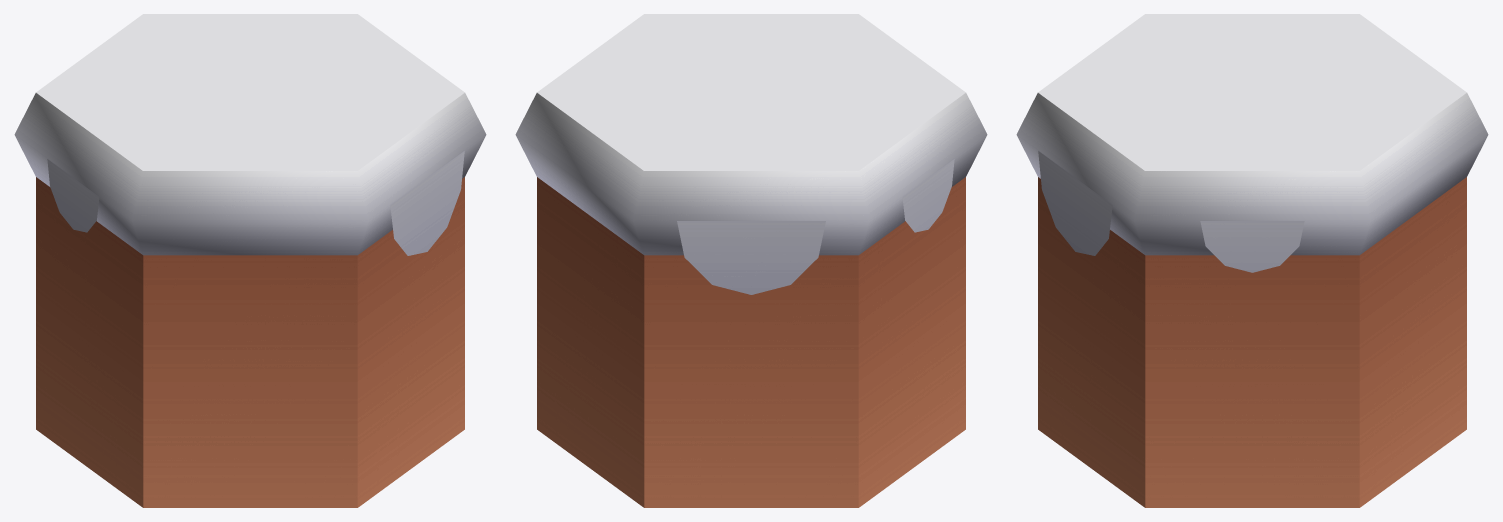
The model's file is block-snow-overhang-hexagon.glb.
3 renders of one model, left to right at view 1: azimuth 30°, elevation 25°; view 2: azimuth 150°, elevation 25°; view 3: azimuth 270°, elevation 25°, orthographic.
Parts seen in each view (by area): view 1: block-snow-overhang-hexagon; view 2: block-snow-overhang-hexagon; view 3: block-snow-overhang-hexagon.
Boxes of the visible parts, x1,y1,x2,y2 form: block-snow-overhang-hexagon: [14, 14, 486, 507]; block-snow-overhang-hexagon: [515, 14, 987, 507]; block-snow-overhang-hexagon: [1016, 14, 1488, 507].
Bounding box in the file's own units: 1.1 × 1 × 1.27.
Materials: 1 (1 with a texture image).
